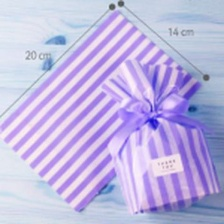snack: (93, 52, 224, 220)
